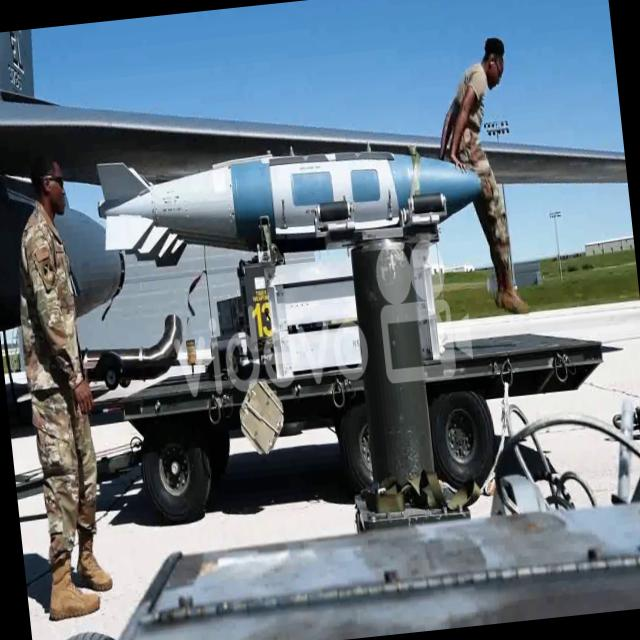rocket: (91, 118, 490, 267)
